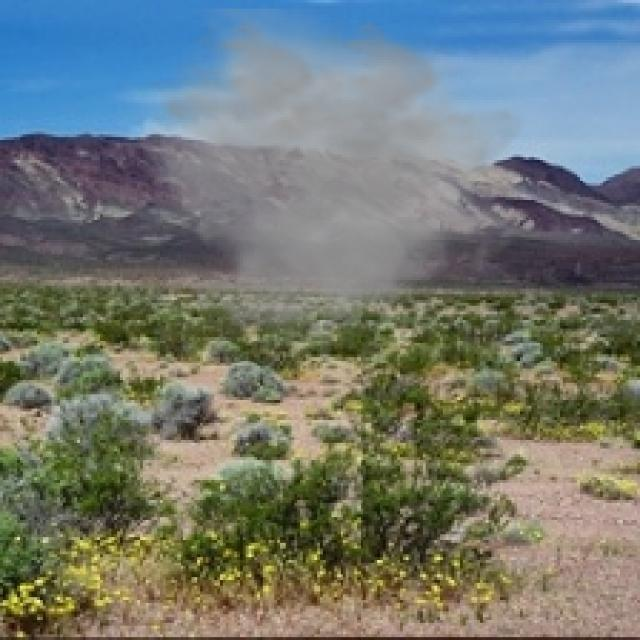Smoke: (132, 8, 528, 363)
